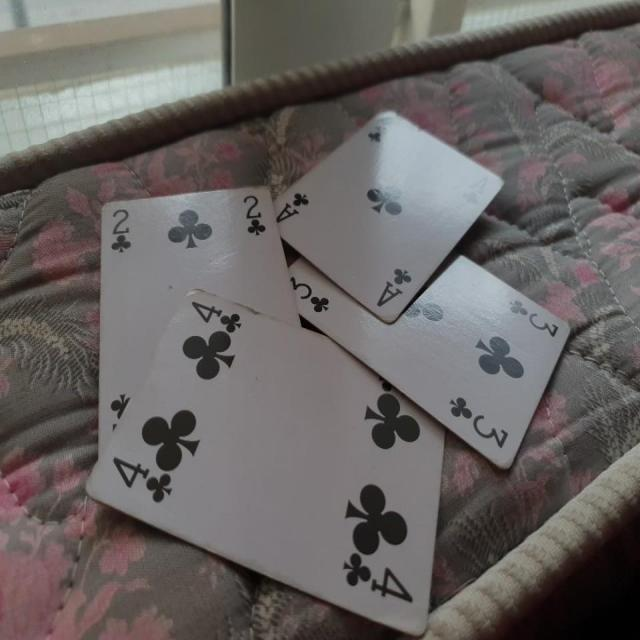2 Trefoils: (97, 183, 300, 464)
3 Trefoils: (290, 254, 573, 471)
4 Trefoils: (84, 289, 447, 635)
A Trefoils: (274, 109, 508, 327)
